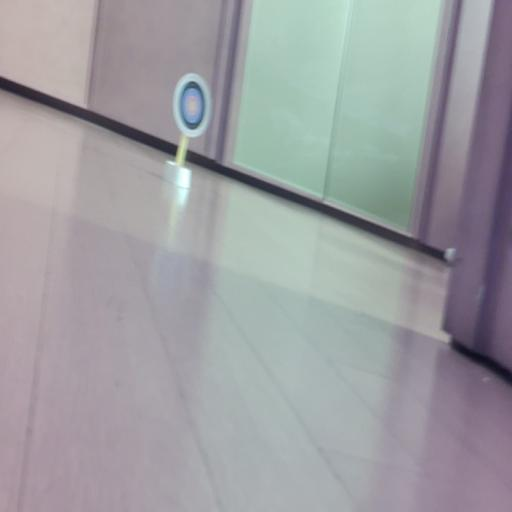target: (173, 73, 211, 137)
